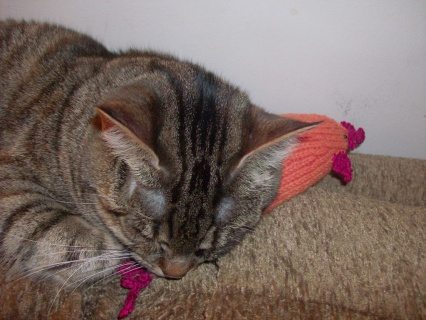Cat: (0, 16, 324, 319)
